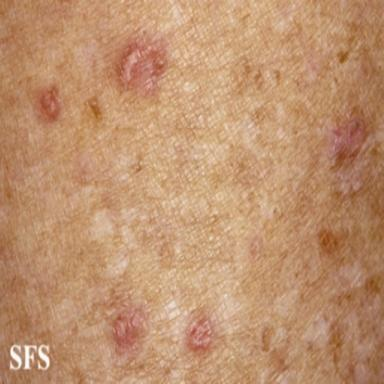Porokeratosis: (115, 30, 168, 96), (113, 304, 149, 352), (330, 117, 366, 158), (185, 312, 216, 350), (35, 86, 61, 122)
